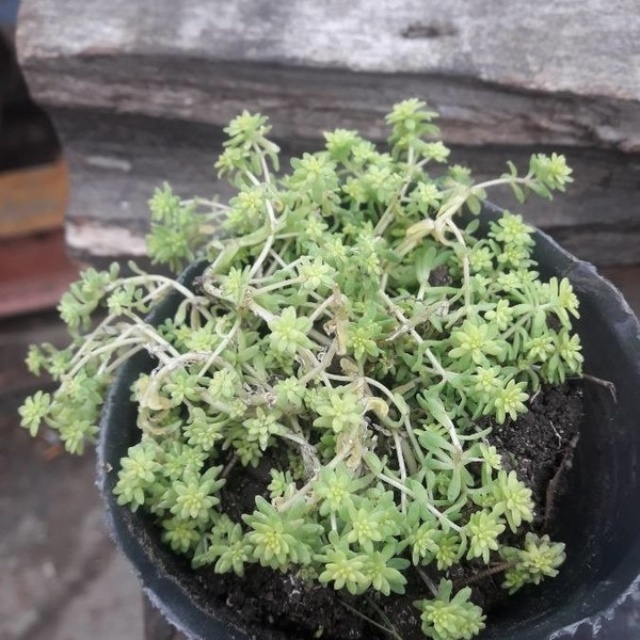obstacle: (50, 100, 626, 625)
